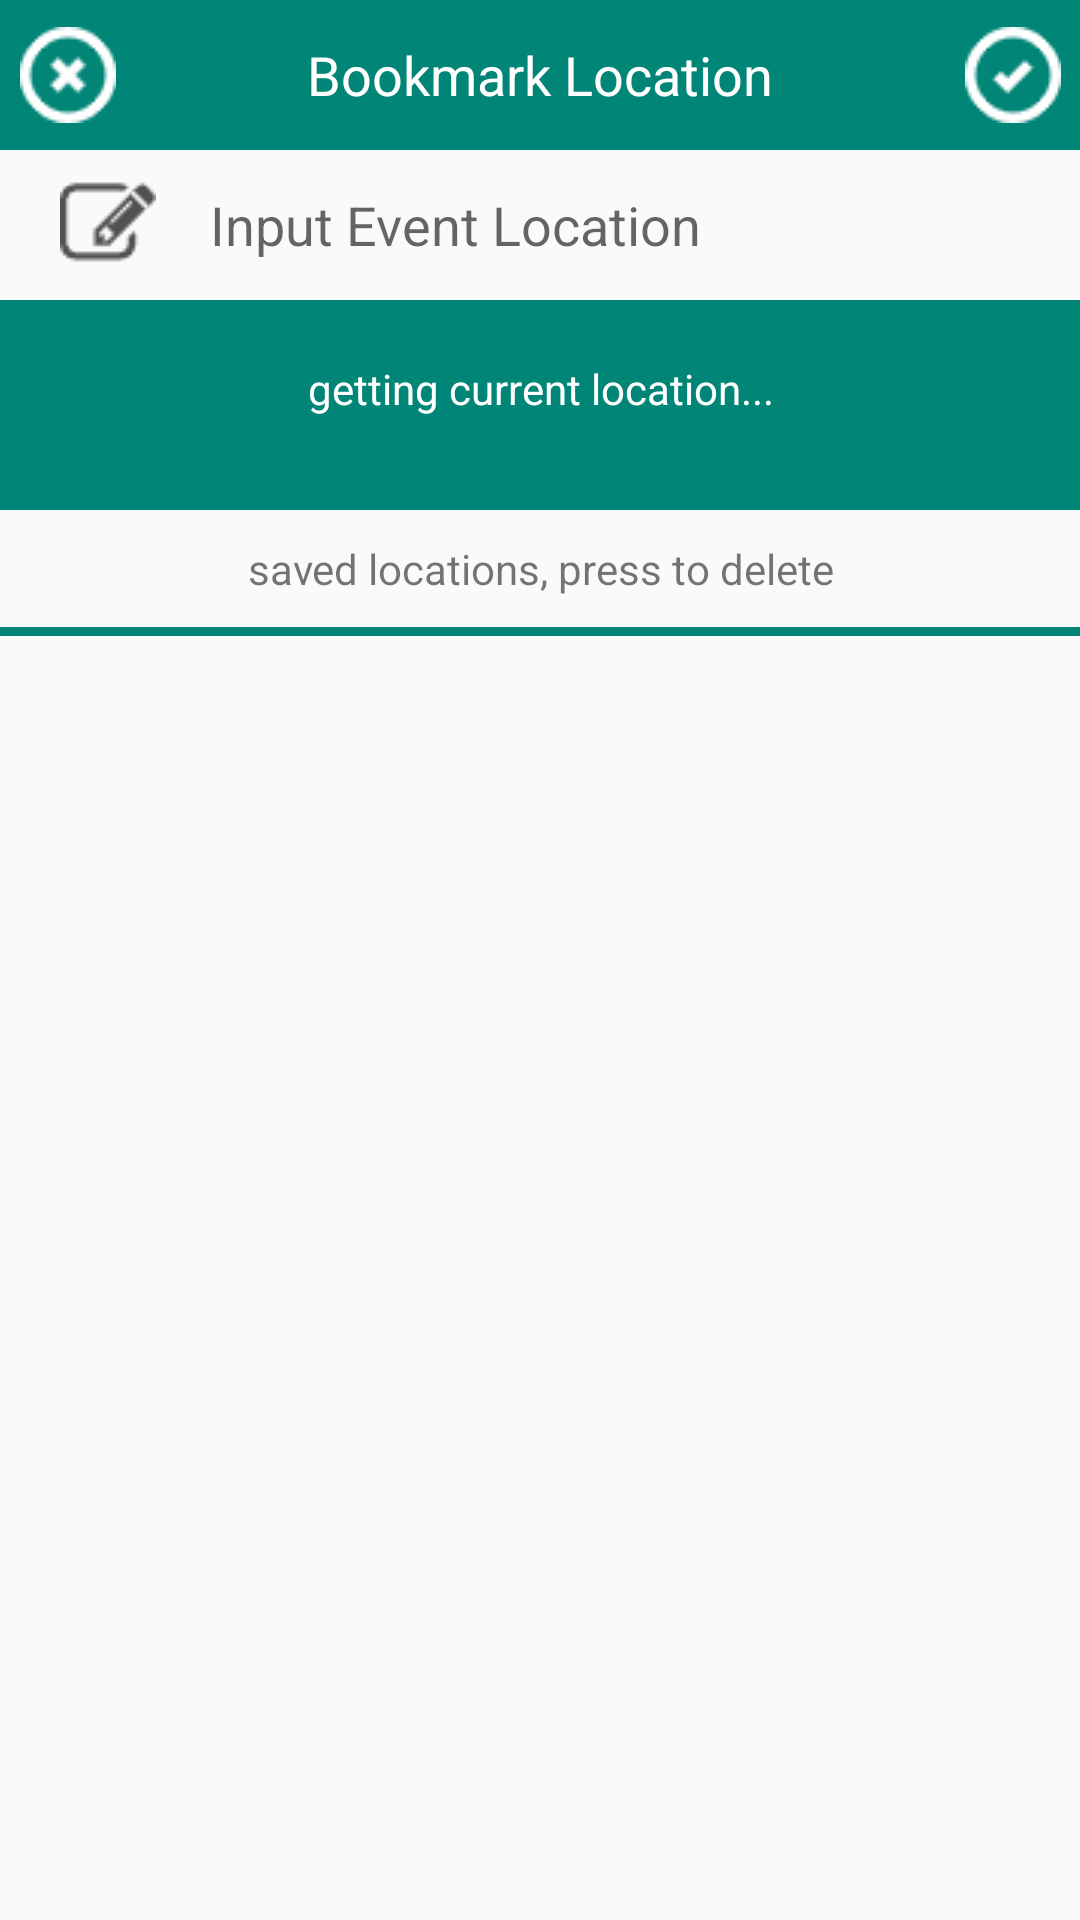

Icon bounding boxes for this 1080x1920 phone screenshot, format (x1,y1,x2,y2):
cancel: (20,27,116,123)
confirm: (965,27,1061,123)
edit: (60,182,156,262)
